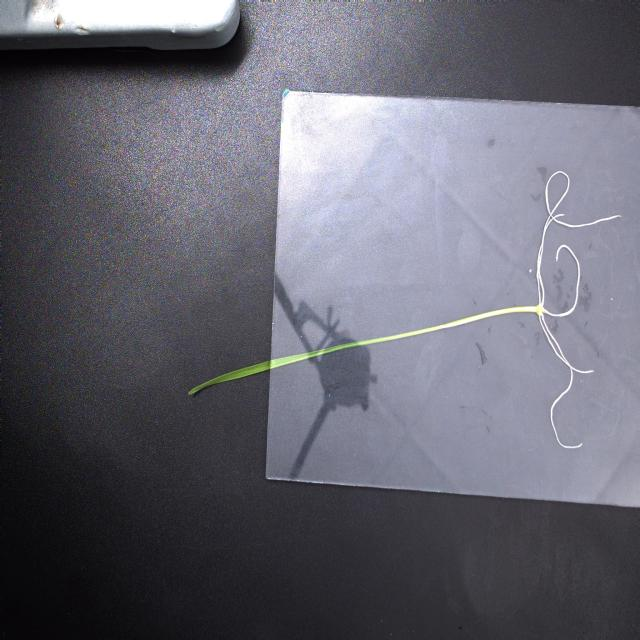leaf: (186, 324, 444, 395)
root: (536, 167, 623, 452)
stem: (441, 305, 542, 328)
